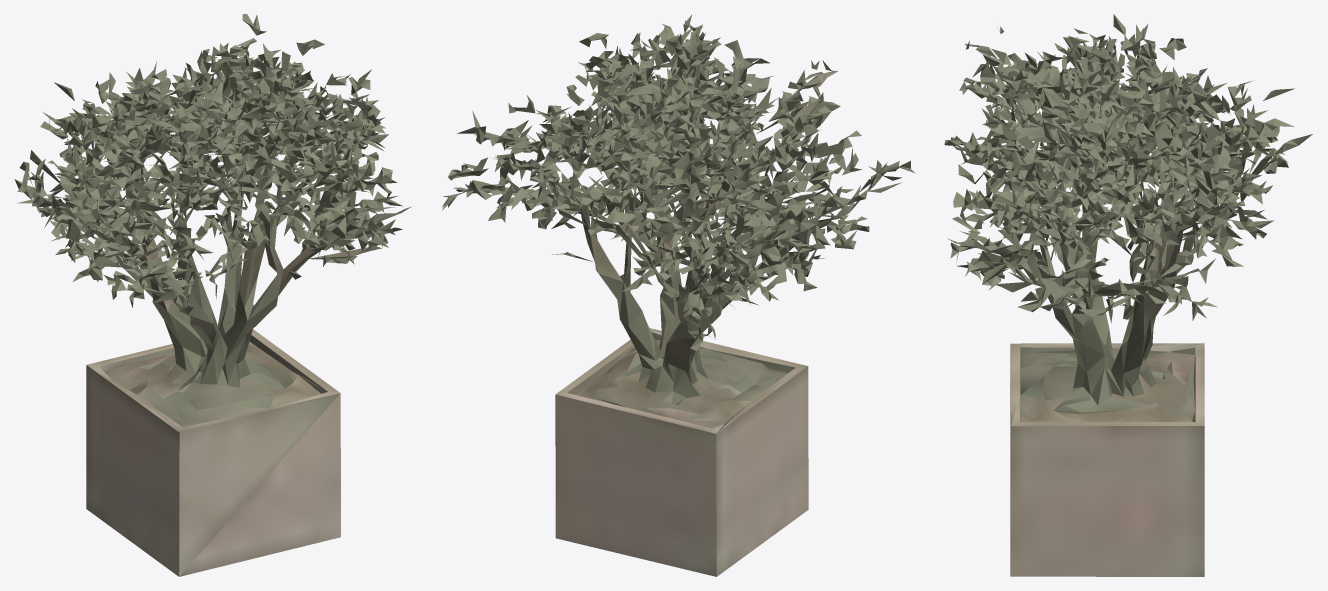
File: term_planter.glb
3 views of the same model, side by side, from view 1: azimuth 30°, elevation 25°; view 2: azimuth 150°, elevation 25°; view 3: azimuth 270°, elevation 25° (orthographic). The views are drawn at different scales.
Visible parts, largest first — view 1: Mesh_0; view 2: Mesh_0; view 3: Mesh_0.
Part boxes in pixels (x1,y1,x2,y2): Mesh_0: (14,14,411,576); Mesh_0: (442,15,915,576); Mesh_0: (944,14,1312,576).
Size of the model in its own units: 2.58 by 3.14 by 2.07.
1 material, 1 textured.
